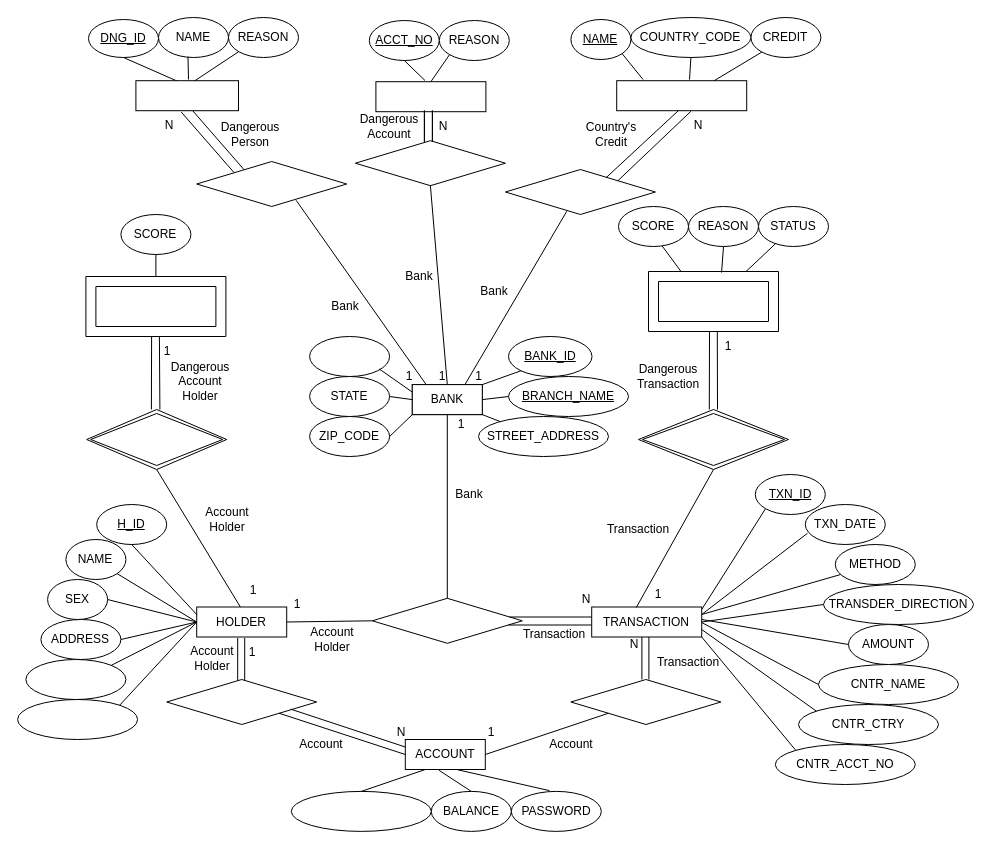
The diagram is 991 pixels wide and 849 high, and some of its shapes have lost their labels. The centre of each missing label's shape, as x and y in pixels:
"ACCOUNT_NUMBER" goes at pixel 360 810.
"CITY" goes at pixel 349 356.
"COUNTRY_CREDIT" goes at pixel 681 95.
"DNG_ACCT" goes at pixel 430 96.
"DNG_HOLDER" goes at pixel 155 306.
"DNG_PERS" goes at pixel 186 95.
"DNG_TXN" goes at pixel 713 301.
"HAS" goes at pixel 241 701.
"IDENTIFIED_AS" goes at pixel 713 439.
"INITIATES" goes at pixel 446 620.
"MANAGES" goes at pixel 429 163.
"NATIONALITY" goes at pixel 75 679.
"PHONE_NUMBER" goes at pixel 77 719.
"RENEWS" goes at pixel 579 191.
"SUSPECT_OF" goes at pixel 156 439.
"UPDATES" goes at pixel 271 183.
"WITH" goes at pixel 645 701.
